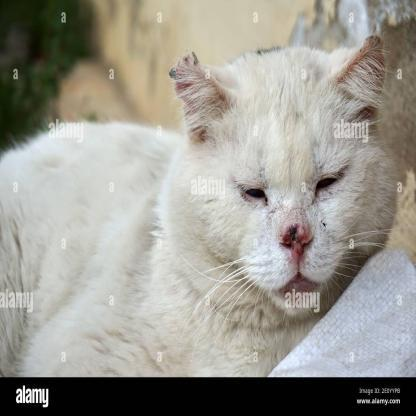cat: (0, 48, 411, 358)
